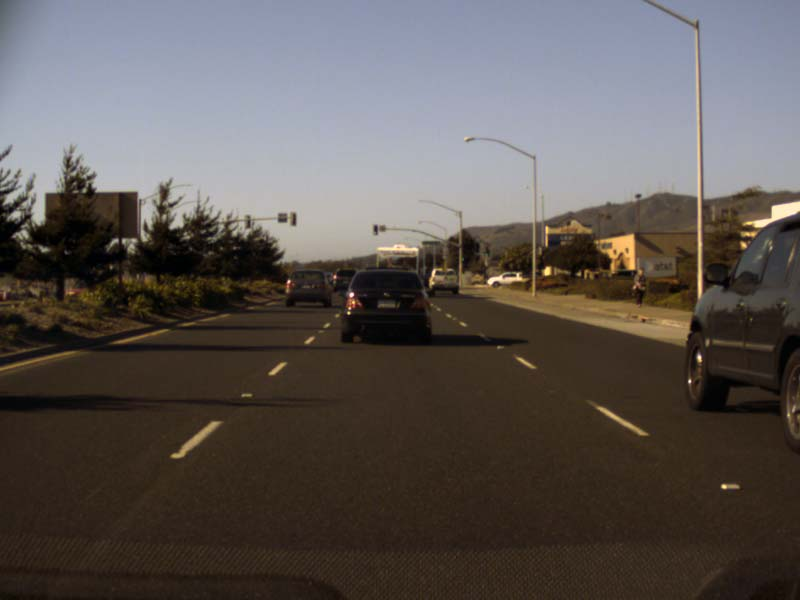Green: (372, 224, 377, 235), (484, 248, 489, 257), (460, 256, 465, 262)
